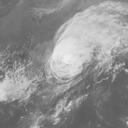cyclone: (49, 31, 99, 80)
